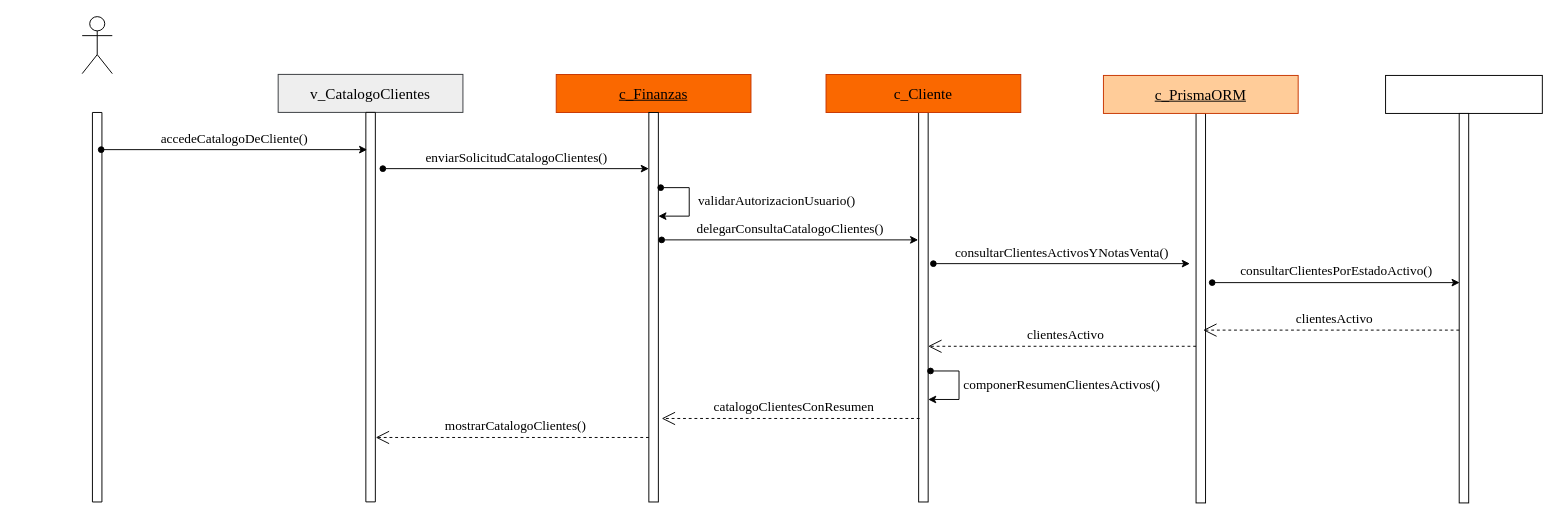
Some shapes in this 1560 by 520 pixel diagram are drawn without their labels. The shapes that lost their labels are listed below. From the top down, each one's centre as x and y in pixels, then its label:
the point at 96,45: Usuario Autorizado Gerencia, Secretaria o Contador
the point at 1463,93: cliente
